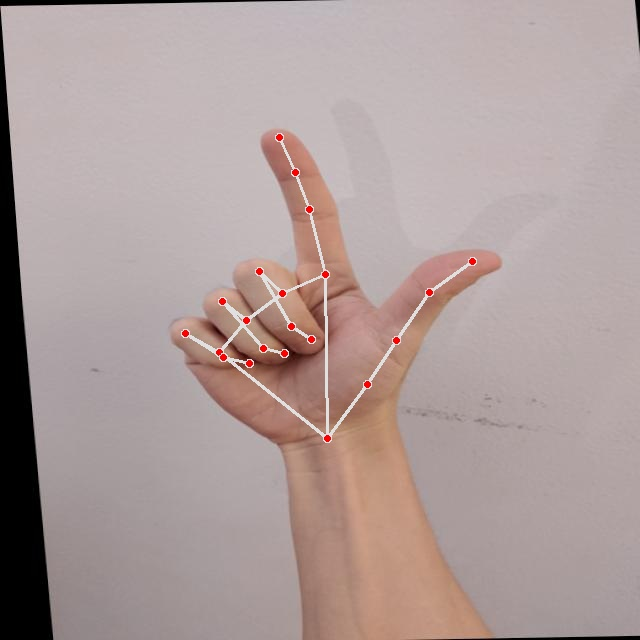L: (139, 116, 524, 452)
